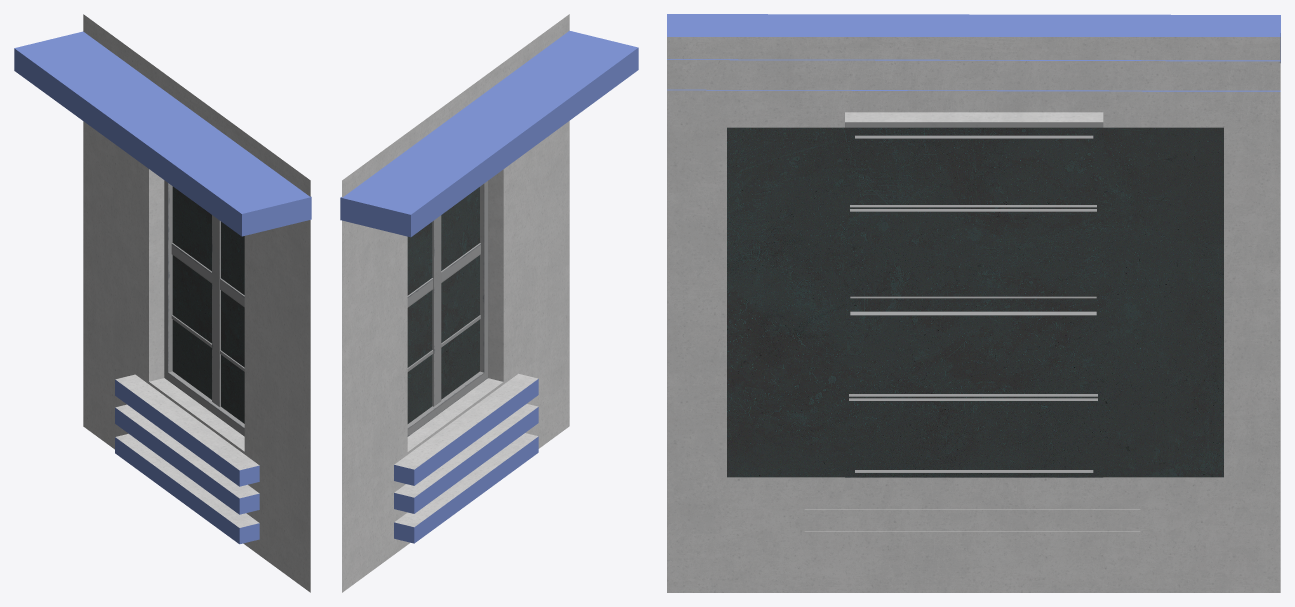
Rendered from MB_Wall_Window_A_26.fbx.
3 renders of one model, left to right at view 1: azimuth 30°, elevation 25°; view 2: azimuth 150°, elevation 25°; view 3: azimuth 270°, elevation 25°, orthographic. The views are drawn at different scales.
Parts seen in each view (by area): view 1: MB_Wall_Window_A_26; view 2: MB_Wall_Window_A_26; view 3: MB_Wall_Window_A_26.
Part boxes in pixels (<box>): MB_Wall_Window_A_26: <box>14,14,311,592</box>; MB_Wall_Window_A_26: <box>340,14,638,592</box>; MB_Wall_Window_A_26: <box>667,14,1280,592</box>.
Size of the model in its own units: 95.16 by 400 by 400.
